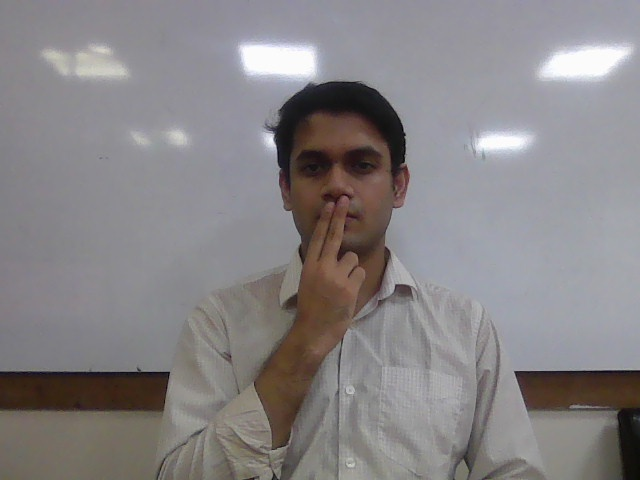Bak: (295, 196, 367, 343)
